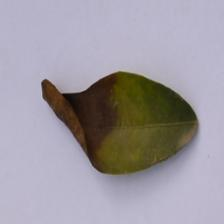black spot: (27, 64, 132, 170)
